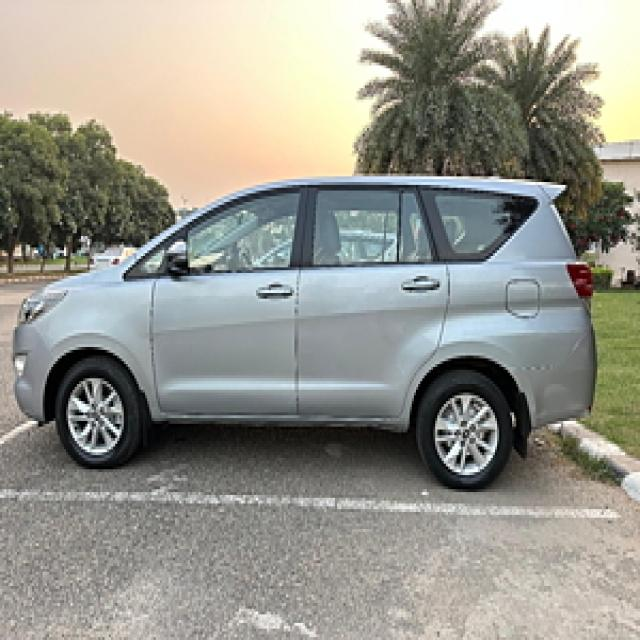light_vehicle: (11, 176, 600, 492)
